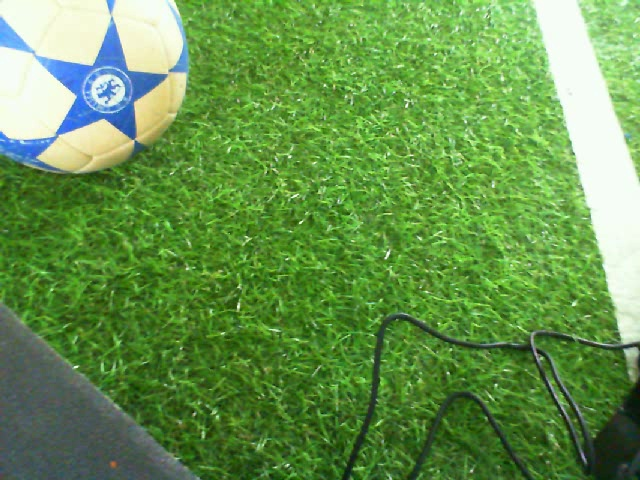ball: (1, 1, 192, 179)
